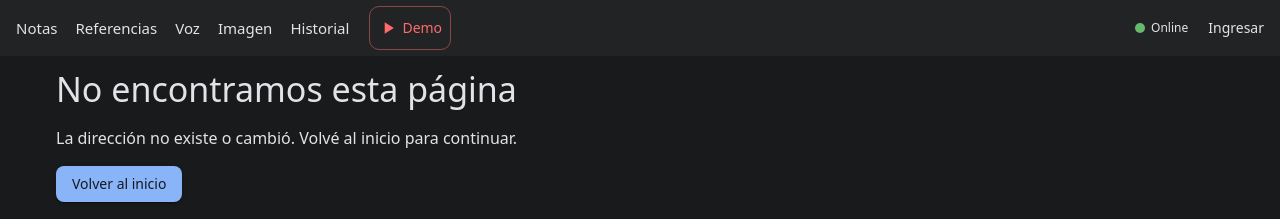
Test case: AppRoutes › una ruta desconocida muestra la página no encontrada con vuelta a Notas
The width and height of the screenshot is (1280, 219).
Expected: the heading "No encontramos esta página" is shown, [56,68,517,110]
What coordinates should you click on to do the following:
click the link "Volver al inicio"
I would click on:
 (119, 184)
Its box is [56,166,182,202].
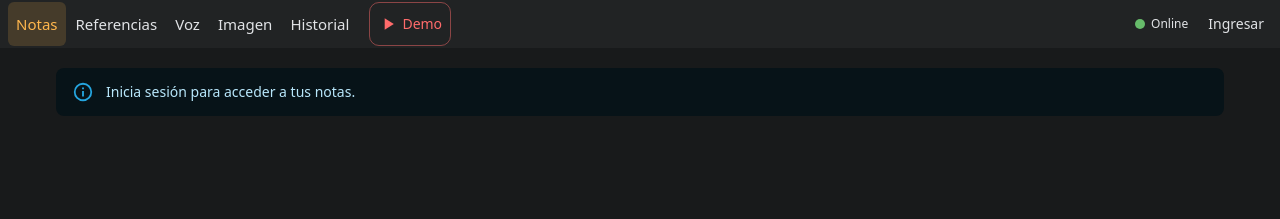
Expected: the text "Inicia sesión para acceder a tus notas." is shown, [106,82,355,101]
